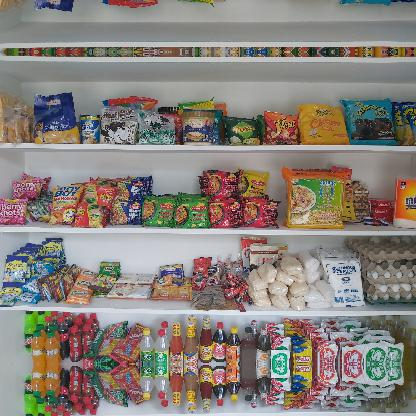Lady-s-Choice: (181, 112, 214, 145)
